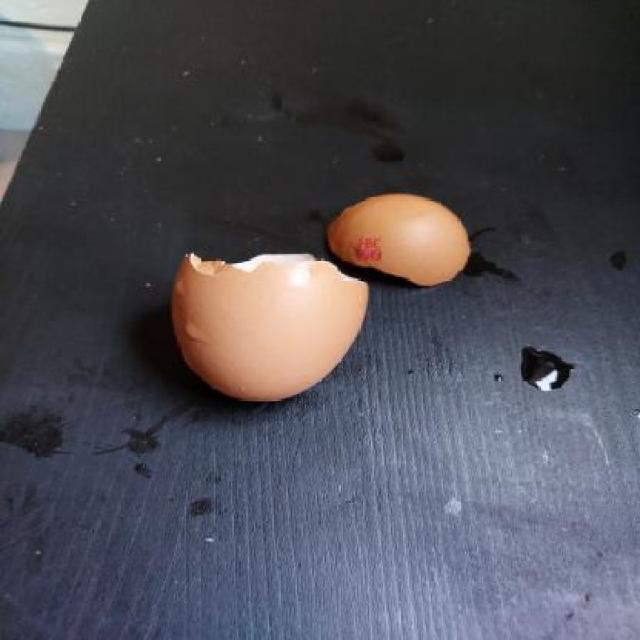biodegradable: (164, 249, 378, 414), (321, 193, 494, 296)
